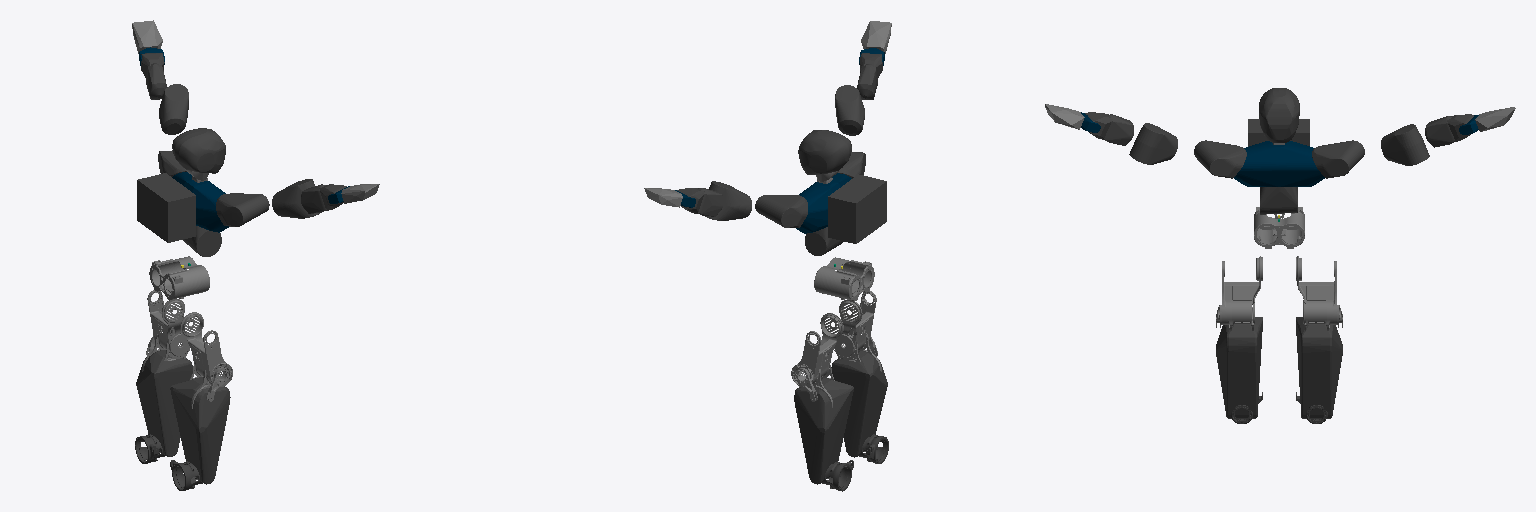
--- Render facts (derived) ---
Views: 3 orthographic renders of the robot side by side, from view 1: azimuth 30°, elevation 25°; view 2: azimuth 150°, elevation 25°; view 3: azimuth 270°, elevation 25°.
Robot: bigman — 84 links, 83 joints (31 revolute, 1 continuous, 51 fixed); root link base_link; default pose: joints at zero except 2 at the middle of their limits (RShLat = -1.99, LShLat = 1.97).
Visible links, largest first — view 1: RLowLeg, LLowLeg, backpack, RThighLowLeg, LThighLowLeg, Waist, multisense/head, RShp, DWYTorso, LShy, RShy, DWS (+5 smaller); view 2: LLowLeg, RLowLeg, backpack, LThighLowLeg, RThighLowLeg, Waist, multisense/head, LShp, DWYTorso, RShy, LShy, RSoftHandLink (+6 smaller); view 3: LLowLeg, RLowLeg, DWYTorso, multisense/head, LThighLowLeg, RThighLowLeg, Waist, RShp, LShy, LShp, RShy, DWS (+5 smaller).
Link boxes in pixels (<box>): RLowLeg: <box>170,377,230,484</box>; LLowLeg: <box>136,350,192,456</box>; backpack: <box>137,173,195,242</box>; RThighLowLeg: <box>180,312,232,408</box>; LThighLowLeg: <box>142,290,189,371</box>; Waist: <box>149,256,209,300</box>; multisense/head: <box>172,128,225,173</box>; RShp: <box>216,193,269,226</box>; DWYTorso: <box>172,172,228,232</box>; LShy: <box>159,84,188,134</box>; RShy: <box>272,179,319,218</box>; DWS: <box>183,226,221,256</box>; LLowLeg: <box>794,378,853,484</box>; RLowLeg: <box>831,351,887,457</box>; backpack: <box>828,174,886,243</box>; LThighLowLeg: <box>791,313,843,407</box>; RThighLowLeg: <box>834,291,881,371</box>; Waist: <box>814,257,874,301</box>; multisense/head: <box>798,130,851,174</box>; LShp: <box>755,195,807,227</box>; DWYTorso: <box>796,173,851,233</box>; RShy: <box>835,85,864,135</box>; LShy: <box>705,181,751,220</box>; RSoftHandLink: <box>861,21,891,53</box>; LLowLeg: <box>1296,317,1342,418</box>; RLowLeg: <box>1216,317,1262,418</box>; DWYTorso: <box>1234,141,1324,186</box>; multisense/head: <box>1259,88,1299,142</box>; LThighLowLeg: <box>1296,256,1342,330</box>; RThighLowLeg: <box>1216,256,1262,330</box>; Waist: <box>1254,207,1304,248</box>; RShp: <box>1194,140,1246,178</box>; LShy: <box>1381,124,1429,165</box>; LShp: <box>1312,140,1364,178</box>; RShy: <box>1129,123,1177,164</box>; DWS: <box>1260,187,1297,214</box>.
Bounding box of the posed robot: 0.6454 × 2.28 × 1.88 m (x, y, z).
Meshes: 22 distinct files referenced, 24 mesh visuals loaded (15 binary STL); not drawn: 3 (reference not matched to a file when rendering), 9 (file found but could not be loaded).

URDF robot description (bigman):
<?xml version="1.0" ?>
<!-- =================================================================================== -->
<!-- |    This document was autogenerated by xacro from bigman_robot.urdf.xacro        | -->
<!-- |    EDITING THIS FILE BY HAND IS NOT RECOMMENDED                                 | -->
<!-- =================================================================================== -->
<!--robot xmlns:xacro="http://ros.org/wiki/xacro" name="bigman"-->
<robot name="bigman" xmlns:xacro="http://ros.org/wiki/xacro">
  <!--
  ROS urdf definition of the BIGMAN humanoid robot by Istituto Italiano di Tecnologia
  
  Author: Enrico Mingo
  
  This file groups files to use BIGMAN in GAZEBO
  
  -->
  <!-- Uncomment this to have the robot rigidly connected to the world -->
  <!--  <link name="world"/>
  
   <joint name="fixed" type="fixed">
    <parent link="world"/>
    <child link="base_link"/>
  </joint>
  
  <origin xyz="0.0 0.0 1.5" rpy="0 0 0" /> -->
  <!-- ROBOT -->
  <!-- 
  ROS urdf definition of the BIGMAN humanoid robot by Istituto Italiano di Tecnologia
  
  DO NOT INCLUDE THIS FILE DIRECTLY! USE bigman_robot.urdf.xacro INSTEAD!

  Author: Enrico Mingo & Alessio Rocchi

  Inertial matrix has to be in CoM frame (URDF specs)

  Velocity and effort limits are fake!
-->
  <material name="grey">
    <color rgba="0.5 0.5 0.5 1"/>
  </material>
  <material name="dark_grey">
    <color rgba="0.3 0.3 0.3 1"/>
  </material>
  <material name="blue">
    <color rgba="0.0 0.2 0.3 1"/>
  </material>
  <!-- 
  ROS urdf definition of the BIGMAN humanoid robot by Istituto Italiano di Tecnologia
  
  DO NOT INCLUDE THIS FILE DIRECTLY! USE bigman_robot.urdf.xacro INSTEAD!

  Author: Enrico Mingo & Alessio Rocchi

  Inertial matrix has to be in CoM frame (URDF specs)

  Velocity and effort limits are fake!
-->
  <!--
The coordinate frame called base_link is rigidly attached to the robot root body. It is recommended to choose the robot waist as its root body. The base_link can be attached to the root in any arbitrary position or orientation; for every hardware platform there will be a different place on the base that provides an obvious point of reference. Note that REP 103 [1] specifies a preferred orientation for frames. -->
  <link name="base_link"/>
  <link name="Waist">
    <inertial>
      <origin rpy="0.0 0.0 0.0" xyz="-0.022813402 -0.00073935443 0.030422909"/>
      <mass value="1.1046081e+01"/>
      <inertia ixx="0.096207978" ixy="0.00014081043" ixz="0.0031258127" iyy="0.098511158" iyz="0.00013938149" izz="0.086541531"/>
    </inertial>
    <visual>
      <origin rpy="0 0 0" xyz="0 0 0"/>
      <geometry name="Waist_visual">
        <mesh filename="package://bigman_urdf/meshes/Waist.STL" scale="0.001 0.001 0.001"/>
      </geometry>
      <material name="grey"/>
    </visual>
    <collision>
      <origin rpy="0 0 0" xyz="0 0 0"/>
      <geometry name="Waist_collision">
        <mesh filename="package://bigman_urdf/meshes/simple/Waist.STL" scale="0.001 0.001 0.001"/>
      </geometry>
    </collision>
  </link>
  <joint name="base_joint" type="fixed">
    <parent link="base_link"/>
    <child link="Waist"/>
    <origin rpy="0 0 0" xyz="0 0 0"/>
  </joint>
  <!-- Scale factor for meshes -->
  <!-- LINKS -->
  <!-- This links are defined in order to be compliant with http://www.ros.org/reps/rep-0120.html#coordinate-frames
and to define the end effectors of the robot-->
  <!-- The coordinate frame called torso is attached to the lowest body of the model which is a parent of l_gripper, r_gripper and gaze. -->
  <link name="torso"/>
  <link name="DWL">
    <inertial>
      <origin rpy="0 0 0" xyz="-0.04610869 0.02232230 -0.02249514"/>
      <mass value="1.44965471"/>
      <inertia ixx="0.01096760" ixy="0.00111556" ixz="0.00030030" iyy="0.00409572" iyz="0.00054456" izz="0.01143795"/>
    </inertial>
    <visual>
      <origin rpy="0 0 0" xyz="0.0 0.0 0.0"/>
      <geometry name="DWL_visual">
        <mesh filename="package://bigman_urdf/meshes/TorsoRoll.STL" scale="0.001 0.001 0.001"/>
      </geometry>
      <material name="dark_grey"/>
    </visual>
    <collision>
      <origin rpy="0 0 0" xyz="0.0 0.0 0.0"/>
      <geometry name="DWL_collision">
        <mesh filename="package://bigman_urdf/meshes/simple/TorsoRoll.STL" scale="0.001 0.001 0.001"/>
      </geometry>
    </collision>
  </link>
  <link name="DWS">
    <inertial>
      <origin rpy="0 0 0" xyz="0.00010203 0.00928164 0.08113610"/>
      <mass value="5.28825567"/>
      <inertia ixx="0.01628069" ixy="-0.00000323" ixz="0.00001424" iyy="0.01424286" iyz="0.00075458" izz="0.00994169"/>
    </inertial>
    <visual>
      <origin rpy="0 0 0" xyz="0.0 0.0 0.0"/>
      <geometry name="DWS_visual">
        <mesh filename="package://bigman_urdf/meshes/TorsoYawPitch.STL" scale="0.001 0.001 0.001"/>
      </geometry>
      <material name="dark_grey"/>
    </visual>
    <collision>
      <origin rpy="0 0 0" xyz="0.0 0.0 0.0"/>
      <geometry name="DWS_collision">
        <mesh filename="package://bigman_urdf/meshes/simple/TorsoYawPitch.STL" scale="0.001 0.001 0.001"/>
      </geometry>
    </collision>
  </link>
  <link name="DWYTorso">
    <inertial>
      <origin rpy="0 0 0" xyz="0.0 0.00 0.3"/>
      <mass value="26"/>
      <inertia ixx="0.18629757" ixy="0.00008160" ixz="0.00030250" iyy="0.02013829" iyz="-0.00001790" izz="0.18850541"/>
    </inertial>
    <visual>
      <origin rpy="0 0 0" xyz="0.0 0.0 0.0"/>
      <geometry name="DWYTorso_visual">
        <mesh filename="package://bigman_urdf/meshes/NewChest.STL" scale="0.001 0.001 0.001"/>
      </geometry>
      <material name="blue"/>
    </visual>
    <collision>
      <origin rpy="0 0 0" xyz="0.0 0.0 0.0"/>
      <geometry name="DWYTorso_collision">
        <mesh filename="package://bigman_urdf/meshes/simple/NewChest.STL" scale="0.001 0.001 0.001"/>
      </geometry>
    </collision>
  </link>
  <link name="backpack">
    <inertial>
      <origin rpy="0 0 0" xyz="0 0 -0.065"/>
      <mass value="10.0"/>
      <inertia ixx="0.0890833333333" ixy="0.0" ixz="0.0" iyy="0.0354166666667" iyz="0.0" izz="0.0963333333333"/>
    </inertial>
    <visual>
      <origin rpy="0 0 0" xyz="0.0 0.0 0.0"/>
      <geometry name="backpack_visual">
        <box size="0.16 0.3 0.22"/>
      </geometry>
      <material name="dark_grey"/>
    </visual>
    <collision>
      <origin rpy="0 0 0" xyz="0.0 0.0 0.0"/>
      <geometry name="backpack_collision">
        <box size="0.16 0.3 0.22"/>
      </geometry>
    </collision>
  </link>
  <joint name="backpack_joint" type="fixed">
    <parent link="DWYTorso"/>
    <child link="backpack"/>
    <origin rpy="0 0 0" xyz="-0.185 0 -0.025"/>
  </joint>
  <joint name="torso_joint" type="fixed">
    <parent link="DWYTorso"/>
    <child link="torso"/>
    <origin rpy="0 0 0" xyz="0.0 0 0.0"/>
  </joint>
  <joint name="WaistLat" type="revolute">
    <parent link="Waist"/>
    <child link="DWL"/>
    <origin rpy="0 0 0" xyz="0.1115 0 0.195982"/>
    <axis xyz="0.89879991307 0 0.43835911792"/>
    <limit effort="120" lower="-0.610865238198" upper="0.610865238198" velocity="6.283"/>
    <dynamics damping="3.0" friction="0"/>
  </joint>
  <joint name="WaistSag" type="revolute">
    <parent link="DWL"/>
    <child link="DWS"/>
    <origin rpy="0 0 0" xyz="0 0 0"/>
    <axis xyz="0 1 0"/>
    <limit effort="220" lower="-0.349065850399" upper="1.3962634016" velocity="6.283"/>
    <dynamics damping="3.0" friction="0"/>
  </joint>
  <joint name="WaistYaw" type="revolute">
    <parent link="DWS"/>
    <child link="DWYTorso"/>
    <origin rpy="0 0 0" xyz="0 0 0.22275"/>
    <axis xyz="0 0 1"/>
    <limit effort="120" lower="-2.84488668075" upper="2.84488668075" velocity="6.283"/>
    <dynamics damping="3.0" friction="0"/>
  </joint>
  <!-- LINKS -->
  <link name="NeckYaw">
    <inertial>
      <origin rpy="0 0 0" xyz="0.0 0.0 0.1155"/>
      <mass value="0.35"/>
      <inertia ixx="0.00032840119" ixy="0.0" ixz="0.0" iyy="7.0371675e-05" iyz="0.0" izz="0.00032840111"/>
    </inertial>
    <visual>
      <origin rpy="0 0 0" xyz="0.0 0.0 0.0"/>
      <geometry name="NeckYaw_visual">
        <mesh filename="package://bigman_urdf/meshes/NeckYaw.STL" scale="0.001 0.001 0.001"/>
      </geometry>
      <material name="grey"/>
    </visual>
    <collision>
      <origin rpy="0 0 0" xyz="0.0 0.0 0.0"/>
      <geometry name="NeckYaw_collision">
        <mesh filename="package://bigman_urdf/meshes/simple/NeckYaw.STL" scale="0.001 0.001 0.001"/>
      </geometry>
    </collision>
  </link>
  <link name="NeckPitch">
    <inertial>
      <origin rpy="0 0 0" xyz="-0.102 0.0 0.26575"/>
      <mass value="0.623"/>
      <inertia ixx="0.0010388333" ixy="0.0" ixz="0.0" iyy="0.00054689381" iyz="0.0" izz="0.00054689381"/>
    </inertial>
    <visual>
      <origin rpy="0 0 0" xyz="0.0 0.0 0.0"/>
      <geometry name="NeckPitch_visual">
        <mesh filename="package://bigman_urdf/meshes/NeckPitch.STL" scale="0.001 0.001 0.001"/>
      </geometry>
      <material name="grey"/>
    </visual>
    <collision>
      <origin rpy="0 0 0" xyz="0.0 0.0 0.0"/>
      <geometry name="NeckPitch_collision">
        <mesh filename="package://bigman_urdf/meshes/simple/NeckPitch.STL" scale="0.001 0.001 0.001"/>
      </geometry>
    </collision>
  </link>
  <!-- JOINTS -->
  <joint name="NeckYawj" type="revolute">
    <parent link="DWYTorso"/>
    <child link="NeckYaw"/>
    <origin rpy="0 0 0" xyz="0 0 0"/>
    <axis xyz="0 0 1"/>
    <!--     <limit velocity="6.283" effort="120" lower="${(-175.0)*toRad}" upper="${(175.0)*toRad}" /> -->
    <limit effort="120" lower="-0.610865238198" upper="0.610865238198" velocity="6.283"/>
    <dynamics damping="3.0" friction="0"/>
  </joint>
  <joint name="NeckPitchj" type="revolute">
    <parent link="NeckYaw"/>
    <child link="NeckPitch"/>
    <origin rpy="0 0 0" xyz="0 0 0.117"/>
    <axis xyz="0 1 0"/>
    <!--limit velocity="6.283" effort="120" lower="${(-30.0)*toRad}" upper="${(70.0)*toRad}" /-->
    <limit effort="120" lower="-0.261799387799" upper="1.0471975512" velocity="6.283"/>
    <dynamics damping="3.0" friction="0"/>
  </joint>
  <!-- ********************LEGS******************** -->
  <!-- This links are defined in order to be compliant with http://www.ros.org/reps/rep-0120.html#coordinate-frames
	and to define the end effectors of the robot -->
  <!--  position and orientation of the leg regardless of the support body geometry -->
  <link name="l_ankle"/>
  <link name="r_ankle"/>
  <!-- position and orientation of the left leg support body. The (X,Y) plane of this frame must be coplanar with the support body contact surface. It is recommended to choose the origin as the projection of the support body origin on the contact surface. The Z coordinate of this frame should be on the ground level when standing. -->
  <link name="l_sole"/>
  <link name="r_sole"/>
  <!--  position and orientation of the leg toe body. The (X,Y) plan of this frame must be coplanar with the toe body contact surface. It is recommended to choose the origin as the projection of the body center on the contact surface. -->
  <link name="l_toe"/>
  <link name="r_toe"/>
  <!-- LINKS -->
  <!-- ********************RIGHT LEG******************** -->
  <link name="RHipMot">
    <inertial>
      <origin rpy="0 0 0" xyz="-0.10348188 -0.10919813 -0.064924056"/>
      <mass value="3.7958197"/>
      <inertia ixx="0.015639017" ixy="0.0018504661" ixz="0.0023907793" iyy="0.023519749" iyz="-0.0023303162" izz="0.020953643"/>
    </inertial>
    <visual>
      <origin rpy="0 0 0" xyz="0 0 0"/>
      <geometry name="RHipMot_visual">
        <mesh filename="package://bigman_urdf/meshes/HipRoll.STL" scale="0.001 0.001 0.001"/>
      </geometry>
      <material name="dark_grey"/>
    </visual>
    <collision>
      <origin rpy="0 0 0" xyz="0 0 0"/>
      <geometry name="RHipMot_collision">
        <mesh filename="package://bigman_urdf/meshes/simple/HipRoll.STL" scale="0.001 0.001 0.001"/>
      </geometry>
    </collision>
  </link>
  <link name="RThighUpLeg">
    <inertial>
      <origin rpy="0 0 0" xyz="-0.0052929709 -0.022561833 0.0056701669"/>
      <mass value="3.2402068"/>
      <inertia ixx="0.010102097" ixy="0.00010858487" ixz="0.00025291395" iyy="0.0067147" iyz="8.3447072e-05" izz="0.01048513"/>
    </inertial>
    <visual>
      <origin rpy="0 0 0" xyz="0 0 0"/>
      <geometry name="RThighUpLeg_visual">
        <mesh filename="package://bigman_urdf/meshes/HipYaw.STL" scale="0.001 0.001 0.001"/>
      </geometry>
      <material name="dark_grey"/>
    </visual>
    <collision>
      <origin rpy="0 0 0" xyz="0 0 0"/>
      <geometry name="RThighUpLeg_collision">
        <mesh filename="package://bigman_urdf/meshes/simple/HipYaw.STL" scale="0.001 0.001 0.001"/>
      </geometry>
    </collision>
  </link>
  <link name="RThighLowLeg">
    <inertial>
      <origin rpy="0 0 0" xyz="0.037746286 -0.028539939 -0.19310133"/>
      <mass value="5.0950736"/>
      <inertia ixx="0.051607858" ixy="0.0022253472" ixz="0.002452979" iyy="0.044349153" iyz="-0.0041006942" izz="0.023374453"/>
    </inertial>
    <visual>
      <origin rpy="0 0 0" xyz="0 0 0"/>
      <geometry name="RThighLowLeg_visual">
        <mesh filename="package://bigman_urdf/meshes/HipPitch.STL" scale="0.001 0.001 0.001"/>
      </geometry>
      <material name="grey"/>
    </visual>
    <collision>
      <origin rpy="0 0 0" xyz="0 0 0"/>
      <geometry name="RThighLowLeg_collision">
        <mesh filename="package://bigman_urdf/meshes/simple/HipPitch.STL" scale="0.001 0.001 0.001"/>
      </geometry>
    </collision>
  </link>
  <link name="RLowLeg">
    <inertial>
      <origin rpy="0 0 0" xyz="-0.0050828668 0.0037732093 -0.072605017"/>
      <mass value="5.6495309"/>
      <inertia ixx="0.10535542" ixy="-0.00058199221" ixz="0.0016743598" iyy="0.097857796" iyz="-0.0033770181" izz="0.020854086"/>
    </inertial>
    <visual>
      <origin rpy="0 0 0" xyz="0 0 0"/>
      <geometry name="RLowLeg_visual">
        <mesh filename="package://bigman_urdf/meshes/KneePitchCalf.STL" scale="0.001 0.001 0.001"/>
      </geometry>
      <material name="dark_grey"/>
    </visual>
    <collision>
      <origin rpy="0 0 0" xyz="0 0 0"/>
      <geometry name="RLowLeg_collision">
        <mesh filename="package://bigman_urdf/meshes/simple/KneePitchCalf.STL" scale="0.001 0.001 0.001"/>
      </geometry>
    </collision>
  </link>
  <link name="RFootmot">
    <inertial>
      <origin rpy="0 0 0" xyz="-0.022024173 0.0025677238 0.00094588455"/>
      <mass value="3.2844159"/>
      <inertia ixx="0.0075550679" ixy="0.00067488292" ixz="5.8332889e-05" iyy="0.011241163" iyz="-0.00014552081" izz="0.013391865"/>
    </inertial>
    <visual>
      <origin rpy="0 0 0" xyz="0 0 0"/>
      <geometry name="RFootmot_visual">
        <mesh filename="package://bigman_urdf/meshes/AnklePitch.STL" scale="0.001 0.001 0.001"/>
      </geometry>
      <material name="dark_grey"/>
    </visual>
    <collision>
      <origin rpy="0 0 0" xyz="0 0 0"/>
      <geometry name="RFootmot_collision">
        <mesh filename="package://bigman_urdf/meshes/simple/AnklePitch.STL" scale="0.001 0.001 0.001"/>
      </geometry>
    </collision>
  </link>
  <link name="RFoot">
    <inertial>
      <origin rpy="0 0 0" xyz="-0.00653584 -0.00479384 -0.10180375"/>
      <mass value="3.42638110"/>
      <inertia ixx="0.01032886" ixy="-0.00016407" ixz="-0.00201294" iyy="0.02854025" iyz="0.00046315" izz="0.02799499"/>
    </inertial>
    <visual>
      <origin rpy="0 0 0" xyz="0 0 0"/>
      <geometry name="RFoot_visual">
        <mesh filename="package://bigman_urdf/meshes/NewFoot.STL" scale="0.001 0.001 0.001"/>
      </geometry>
      <material name="dark_grey"/>
    </visual>
    <collision>
      <origin rpy="0 0 0" xyz="0.005 -0.01 -0.1359"/>
      <geometry>
        <box size="0.32 0.16 0.015"/>
      </geometry>
    </collision>
  </link>
  <!-- ********************LEFT LEG******************** -->
  <link name="LHipMot">
    <inertial>
      <origin rpy="0 0 0" xyz="-0.10348188 0.10919813 -0.064924056"/>
      <mass value="3.7958197"/>
      <inertia ixx="0.015639017" ixy="-0.0018504661" ixz="0.0023907793" iyy="0.023519749" iyz="0.0023303162" izz="0.020953643"/>
    </inertial>
    <visual>
      <origin rpy="0 0 0" xyz="0 0 0"/>
      <geometry name="LHipMot_visual">
        <mesh filename="package://bigman_urdf/meshes/HipRoll.STL" scale="0.001 -0.001 0.001"/>
      </geometry>
      <material name="dark_grey"/>
    </visual>
    <collision>
      <origin rpy="0 0 0" xyz="0 0 0"/>
      <geometry name="LHipMot_collision">
        <mesh filename="package://bigman_urdf/meshes/simple/HipRoll.STL" scale="0.001 -0.001 0.001"/>
      </geometry>
    </collision>
  </link>
  <link name="LThighUpLeg">
    <inertial>
      <origin rpy="0 0 0" xyz="-0.0052929709 0.022561833 0.0056701669"/>
      <mass value="3.2402068"/>
      <inertia ixx="0.010102097" ixy="-0.00010858487" ixz="0.00025291395" iyy="0.0067147" iyz="-8.3447072e-05" izz="0.01048513"/>
    </inertial>
    <visual>
      <origin rpy="0 0 0" xyz="0 0 0"/>
      <geometry name="LThighUpLeg_visual">
        <mesh filename="package://bigman_urdf/meshes/HipYaw.STL" scale="0.001 -0.001 0.001"/>
      </geometry>
      <material name="dark_grey"/>
    </visual>
    <collision>
      <origin rpy="0 0 0" xyz="0 0 0"/>
      <geometry name="LThighUpLeg_collision">
        <mesh filename="package://bigman_urdf/meshes/simple/HipYaw.STL" scale="0.001 -0.001 0.001"/>
      </geometry>
    </collision>
  </link>
  <link name="LThighLowLeg">
    <inertial>
      <origin rpy="0 0 0" xyz="0.037746286 0.028539939 -0.19310133"/>
      <mass value="5.0950736"/>
      <inertia ixx="0.051607858" ixy="-0.0022253472" ixz="0.002452979" iyy="0.044349153" iyz="0.0041006942" izz="0.023374453"/>
    </inertial>
    <visual>
      <origin rpy="0 0 0" xyz="0 0 0"/>
      <geometry name="LThighLowLeg_visual">
        <mesh filename="package://bigman_urdf/meshes/HipPitch.STL" scale="0.001 -0.001 0.001"/>
      </geometry>
      <material name="grey"/>
    </visual>
    <collision>
      <origin rpy="0 0 0" xyz="0 0 0"/>
      <geometry name="LThighLowLeg_collision">
        <mesh filename="package://bigman_urdf/meshes/simple/HipPitch.STL" scale="0.001 -0.001 0.001"/>
      </geometry>
    </collision>
  </link>
  <link name="LLowLeg">
    <inertial>
      <origin rpy="0 0 0" xyz="-0.0050828668 -0.0037732093 -0.072605017"/>
      <mass value="5.6495309"/>
      <inertia ixx="0.10535542" ixy="0.00058199221" ixz="0.0016743598" iyy="0.097857796" iyz="0.0033770181" izz="0.020854086"/>
    </inertial>
    <visual>
      <origin rpy="0 0 0" xyz="0 0 0"/>
      <geometry name="LLowLeg_visual">
        <mesh filename="package://bigman_urdf/meshes/KneePitchCalf.STL" scale="0.001 -0.001 0.001"/>
      </geometry>
      <material name="dark_grey"/>
    </visual>
    <collision>
      <origin rpy="0 0 0" xyz="0 0 0"/>
      <geometry name="LLowLeg_collision">
        <mesh filename="package://bigman_urdf/meshes/simple/KneePitchCalf.STL" scale="0.001 -0.001 0.001"/>
      </geometry>
    </collision>
  </link>
  <link name="LFootmot">
    <inertial>
      <origin rpy="0 0 0" xyz="-0.022024173 -0.0025677238 0.00094588455"/>
      <mass value="3.2844159"/>
      <inertia ixx="0.0075550679" ixy="-0.00067488292" ixz="5.8332889e-05" iyy="0.011241163" iyz="0.00014552081" izz="0.013391865"/>
    </inertial>
    <visual>
      <origin rpy="0 0 0" xyz="0 0 0"/>
      <geometry name="LFootmot_visual">
        <mesh filename="package://bigman_urdf/meshes/AnklePitch.STL" scale="0.001 -0.001 0.001"/>
      </geometry>
      <material name="dark_grey"/>
    </visual>
    <collision>
      <origin rpy="0 0 0" xyz="0 0 0"/>
      <geometry name="LFootmot_collision">
        <mesh filename="package://bigman_urdf/meshes/simple/AnklePitch.STL" scale="0.001 -0.001 0.001"/>
      </geometry>
    </collision>
  </link>
  <link name="LFoot">
    <inertial>
      <origin rpy="0 0 0" xyz="-0.00653584 0.00479384 -0.10180375"/>
      <mass value="3.42638110"/>
      <inertia ixx="0.01032886" ixy="0.00016407" ixz="-0.00201294" iyy="0.02854025" iyz="-0.00046315" izz="0.02799499"/>
    </inertial>
    <visual>
      <origin rpy="0 0 0" xyz="0 0 0"/>
      <geometry name="LFoot_visual">
        <mesh filename="package://bigman_urdf/meshes/NewFoot.STL" scale="0.001 -0.001 0.001"/>
      </geometry>
      <material name="dark_grey"/>
    </visual>
    <collision>
      <origin rpy="0 0 0" xyz="0.005 0.01 -0.1359"/>
      <geometry>
        <box size="0.32 0.16 0.015"/>
      </geometry>
    </collision>
  </link>
  <!-- JOINTS -->
  <!-- ********************RIGHT LEG******************** -->
  <joint name="RHipLat" type="revolute">
    <parent link="Waist"/>
    <child link="RHipMot"/>
    <origin rpy="0 0 0" xyz="0.1059 -0.06 0.0"/>
    <axis xyz="1 0 0"/>
    <limit effort="400" lower="-0.87222" upper="0.697778" velocity="6.283"/>
    <dynamics damping="3.0" friction="0"/>
  </joint>
  <joint name="RHipYaw" type="revolute">
    <parent link="RHipMot"/>
    <child link="RThighUpLeg"/>
    <origin rpy="0 0 0" xyz="-0.0889 -0.121032 -0.217872"/>
    <axis xyz="0 0 1"/>
    <limit effort="140" lower="-1.57" upper="0.872222" velocity="6.283"/>
    <dynamics damping="3.0" friction="0"/>
  </joint>
  <joint name="RHipSag" type="revolute">
    <parent link="RThighUpLeg"/>
    <child link="RThighLowLeg"/>
    <origin rpy="0 0 0" xyz="0.0 0.0 0.0"/>
    <axis xyz="0 1 0"/>
    <limit effort="400" lower="-2.09333" upper="1.046667" velocity="6.283"/>
    <dynamics damping="3.0" friction="0"/>
  </joint>
  <joint name="RKneeSag" type="revolute">
    <parent link="RThighLowLeg"/>
    <child link="RLowLeg"/>
    <origin rpy="0 0 0" xyz="0.0 0.0 -0.356"/>
    <axis xyz="0 1 0"/>
    <limit effort="400" lower="0.0" upper="2.442222" velocity="6.283"/>
    <dynamics damping="3.0" friction="0"/>
  </joint>
  <joint name="RAnkSag" type="revolute">
    <parent link="RLowLeg"/>
    <child link="RFootmot"/>
    <origin rpy="0 0 0" xyz="0.0 0.0 -0.4"/>
    <axis xyz="0 1 0"/>
    <limit effort="330" lower="-1.39556" upper="0.697778" velocity="6.283"/>
    <dynamics damping="3.0" friction="0"/>
  </joint>
  <joint name="RAnkLat" type="revolute">
    <parent link="RFootmot"/>
    <child link="RFoot"/>
    <origin rpy="0 0 0" xyz="0.0 0.0 0.0"/>
    <axis xyz="1 0 0"/>
    <limit effort="210" lower="-0.785" upper="0.785" velocity="6.283"/>
    <dynamics damping="3.0" friction="0"/>
  </joint>
  <!-- ********************LEFT LEG******************** -->
  <joint name="LHipLat" type="revolute">
    <parent link="Waist"/>
    <child link="LHipMot"/>
    <origin rpy="0 0 0" xyz="0.1059 0.06 0.0"/>
    <axis xyz="1 0 0"/>
    <limit effort="400" lower="-0.697778" upper="0.87222" velocity="6.283"/>
    <dynamics damping="3.0" friction="0"/>
  </joint>
  <joint name="LHipYaw" type="revolute">
    <parent link="LHipMot"/>
    <child link="LThighUpLeg"/>
    <origin rpy="0 0 0" xyz="-0.0889 0.121032 -0.217872"/>
    <axis xyz="0 0 1"/>
    <limit effort="140" lower="-0.872222" upper="1.57" velocity="6.283"/>
    <dynamics damping="3.0" friction="0"/>
  </joint>
  <joint name="LHipSag" type="revolute">
    <parent link="LThighUpLeg"/>
    <child link="LThighLowLeg"/>
    <origin rpy="0 0 0" xyz="0.0 0.0 0.0"/>
    <axis xyz="0 1 0"/>
    <limit effort="400" lower="-2.09333" upper="1.046667" velocity="6.283"/>
    <dynamics damping="3.0" friction="0"/>
  </joint>
  <joint name="LKneeSag" type="revolute">
    <parent link="LThighLowLeg"/>
    <child link="LLowLeg"/>
    <origin rpy="0 0 0" xyz="0.0 0.0 -0.356"/>
    <axis xyz="0 1 0"/>
    <limit effort="400" lower="0.0" upper="2.442222" velocity="6.283"/>
    <dynamics damping="3.0" friction="0"/>
  </joint>
  <joint name="LAnkSag" type="revolute">
    <parent link="LLowLeg"/>
    <child link="LFootmot"/>
    <origin rpy="0 0 0" xyz="0.0 0.0 -0.4"/>
    <axis xyz="0 1 0"/>
    <limit effort="330" lower="-1.39556" upper="0.697778" velocity="6.283"/>
    <dynamics damping="3.0" friction="0"/>
  </joint>
  <joint name="LAnkLat" type="revolute">
    <parent link="LFootmot"/>
    <child link="LFoot"/>
    <origin rpy="0 0 0" xyz="0.0 0.0 0.0"/>
    <axis xyz="1 0 0"/>
    <limit effort="210" lower="-0.785" upper="0.785" velocity="6.283"/>
    <dynamics damping="3.0" friction="0"/>
  </joint>
  <joint name="l_ankle_joint" type="fixed">
    <parent link="LFoot"/>
    <child link="l_ankle"/>
    <origin rpy="0 0 0" xyz="0 0 0"/>
  </joint>
  <joint name="r_ankle_joint" type="fixed">
    <parent link="RFoot"/>
    <child link="r_ankle"/>
    <origin rpy="0 0 0" xyz="0 0 0"/>
  </joint>
  <joint name="l_sole_joint" type="fixed">
    <parent link="LFoot"/>
    <child link="l_sole"/>
    <origin rpy="0 0 0" xyz="0 0 -0.1435"/>
  </joint>
  <joint name="r_sole_joint" type="fixed">
    <parent link="RFoot"/>
    <child link="r_sole"/>
    <origin rpy="0 0 0" xyz="0 0 -0.1435"/>
  </joint>
  <joint name="l_toe_joint" type="fixed">
    <parent link="l_sole"/>
    <child link="l_toe"/>
    <origin rpy="0 0 0" xyz="0.16 0 0"/>
  </joint>
  <joint name="r_toe_joint" type="fixed">
    <parent link="r_sole"/>
    <child link="r_toe"/>
    <origin rpy="0 0 0" xyz="0.16 0 0"/>
  </joint>
  <!-- macro for one reference frame in foot -->
  <link name="l_foot_upper_right_link"/>
  <joint name="l_foot_upper_right_joint" type="fixed">
    <origin rpy="0 0 0" xyz="0.16 -0.07 0"/>
    <parent link="l_sole"/>
    <child link="l_foot_upper_right_link"/>
  </joint>
  <!-- macro for one reference frame in foot -->
  <link name="l_foot_upper_left_link"/>
  <joint name="l_foot_upper_left_joint" type="fixed">
    <origin rpy="0 0 0" xyz="0.16 0.09 0"/>
    <parent link="l_sole"/>
    <child link="l_foot_upper_left_link"/>
  </joint>
  <!-- macro for one reference frame in foot -->
  <link name="l_foot_lower_right_link"/>
  <joint name="l_foot_lower_right_joint" type="fixed">
    <origin rpy="0 0 0" xyz="-0.16 -0.07 0"/>
    <parent link="l_sole"/>
    <child link="l_foot_lower_right_link"/>
  </joint>
  <!-- macro for one reference frame in foot -->
  <link name="l_foot_lower_left_link"/>
  <joint name="l_foot_lower_left_joint" type="fixed">
    <origin rpy="0 0 0" xyz="-0.16 0.09 0"/>
    <parent link="l_sole"/>
    <child link="l_foot_lower_left_link"/>
  </joint>
  <!-- macro for one reference frame in foot -->
  <link name="r_foot_upper_right_link"/>
  <joint name="r_foot_upper_right_joint" type="fixed">
    <origin rpy="0 0 0" xyz="0.16 0.07 0"/>
    <parent link="r_sole"/>
    <child link="r_foot_upper_right_link"/>
  </joint>
  <!-- macro for one reference frame in foot -->
  <link name="r_foot_upper_left_link"/>
  <joint name="r_foot_upper_left_joint" type="fixed">
    <origin rpy="0 0 0" xyz="0.16 -0.09 0"/>
    <parent link="r_sole"/>
    <child link="r_foot_upper_left_link"/>
  </joint>
  <!-- macro for one reference frame in foot -->
  <link name="r_foot_lower_right_link"/>
  <joint name="r_foot_lower_right_joint" type="fixed">
    <origin rpy="0 0 0" xyz="-0.16 0.07 0"/>
    <parent link="r_sole"/>
    <child link="r_foot_lower_right_link"/>
  </joint>
  <!-- macro for one reference frame in foot -->
  <link name="r_foot_lower_left_link"/>
  <joint name="r_foot_lower_left_joint" type="fixed">
    <origin rpy="0 0 0" xyz="-0.16 -0.09 0"/>
    <parent link="r_sole"/>
    <child link="r_foot_lower_left_link"/>
  </joint>
  <!-- LINKS -->
  <!-- RIGHT ARM -->
  <link name="RShp">
    <inertial>
      <origin rpy="0 0 0" xyz="-0.00543349 -0.04480023 0.01581062"/>
      <mass value="1.81745527"/>
      <inertia ixx="0.00571053" ixy="0.00041083" ixz="-0.00005130" iyy="0.01126908" iyz="-0.00003461" izz="0.01371197"/>
    </inertial>
    <visual>
      <origin rpy="0 0 0" xyz="0 0 0"/>
      <geometry name="RShp_visual">
        <mesh filename="package://bigman_urdf/meshes/ShoulderPitch.STL" scale="0.001 0.001 0.001"/>
      </geometry>
      <material name="dark_grey"/>
    </visual>
    <collision>
      <origin rpy="0 0 0" xyz="0 0 0"/>
      <geometry name="RShp_collision">
        <mesh filename="package://bigman_urdf/meshes/simple/ShoulderPitch.STL" scale="0.001 0.001 0.001"/>
      </geometry>
    </collision>
  </link>
  <link name="RShr">
    <inertial>
      <origin rpy="0 0 0" xyz="0.00729315 0.00002698 -0.07529696"/>
      <mass value="5.00486460"/>
      <inertia ixx="0.01644345" ixy="-0.00001187" ixz="-0.00010546" iyy="0.01804804" iyz="-0.00000565" izz="0.00802420"/>
    </inertial>
    <visual>
      <origin rpy="0 0 0" xyz="0 0 0"/>
      <geometry name="RShr_visual">
        <mesh filename="package://bigman_urdf/meshes/TopUpperArm.STL" scale="0.001 0.001 0.001"/>
      </geometry>
      <material name="dark_grey"/>
    </visual>
    <collision>
      <origin rpy="0 0 0" xyz="0 0 0"/>
      <geometry name="RShr_collision">
        <mesh filename="package://bigman_urdf/meshes/simple/TopUpperArm.STL" scale="0.001 0.001 0.001"/>
      </geometry>
    </collision>
  </link>
  <link name="RShy">
    <inertial>
      <origin rpy="0 0 0" xyz="0.02765373 -0.03258647 -0.12698781"/>
      <mass value="3.20289133"/>
      <inertia ixx="0.01129046" ixy="0.00013518" ixz="-0.00134760" iyy="0.00984951" iyz="-0.00026836" izz="0.00728549"/>
    </inertial>
    <visual>
      <origin rpy="0 0 0" xyz="0 0 0"/>
      <geometry name="RShy_visual">
        <mesh filename="package://bigman_urdf/meshes/BottomUpperArm.STL" scale="0.001 0.001 0.001"/>
      </geometry>
      <material name="dark_grey"/>
    </visual>
    <collision>
      <origin rpy="0 0 0" xyz="0 0 0"/>
      <geometry name="RShy_collision">
        <mesh filename="package://bigman_urdf/meshes/simple/BottomUpperArm.STL" scale="0.001 0.001 0.001"/>
      </geometry>
    </collision>
  </link>
  <link name="RElb">
    <inertial>
      <origin rpy="0 0 0" xyz="-0.055754915 -0.007582604 -0.043820396"/>
      <mass value="8.6765385e-01"/>
      <inertia ixx="0.0040395238" ixy="0.00034973136" ixz="-0.00068400465" iyy="0.0022460561" iyz="0.00028844444" izz="0.0044895027"/>
    </inertial>
    <visual>
      <origin rpy="0 0 0" xyz="0 0 0"/>
      <geometry name="RElb_visual">
        <mesh filename="package://bigman_urdf/meshes/Elbow.STL" scale="0.001 0.001 0.001"/>
      </geometry>
      <material name="dark_grey"/>
    </visual>
    <collision>
      <origin rpy="0 0 0" xyz="0 0 0"/>
      <geometry name="RElb_collision">
        <mesh filename="package://bigman_urdf/meshes/simple/Elbow.STL" scale="0.001 0.001 0.001"/>
      </geometry>
    </collision>
  </link>
  <!-- LEFT ARM -->
  <link name="LShp">
    <inertial>
      <origin rpy="0 0 0" xyz="-0.00543349 0.04480023 0.01581062"/>
      <mass value="1.81745527"/>
      <inertia ixx="0.00571053" ixy="-0.00041083" ixz="-0.00005130" iyy="0.01126908" iyz="0.00003461" izz="0.01371197"/>
    </inertial>
    <visual>
      <origin rpy="0 0 0" xyz="0 0 0"/>
      <geometry name="LShp_visual">
        <mesh filename="package://bigman_urdf/meshes/ShoulderPitch.STL" scale="0.001 -0.001 0.001"/>
      </geometry>
      <material name="dark_grey"/>
    </visual>
    <collision>
      <origin rpy="0 0 0" xyz="0 0 0"/>
      <geometry name="LShp_collision">
        <mesh filename="package://bigman_urdf/meshes/simple/ShoulderPitch.STL" scale="0.001 -0.001 0.001"/>
      </geometry>
    </collision>
  </link>
  <link name="LShr">
    <inertial>
      <origin rpy="0 0 0" xyz="0.00729315 -0.00002698 -0.07529696"/>
      <mass value="5.00486460"/>
      <inertia ixx="0.01644345" ixy="0.00001187" ixz="-0.00010546" iyy="0.01804804" iyz="0.00000565" izz="0.00802420"/>
    </inertial>
    <visual>
      <origin rpy="0 0 0" xyz="0 0 0"/>
      <geometry name="LShr_visual">
        <mesh filename="package://bigman_urdf/meshes/TopUpperArm.STL" scale="0.001 -0.001 0.001"/>
      </geometry>
      <material name="dark_grey"/>
    </visual>
    <collision>
      <origin rpy="0 0 0" xyz="0 0 0"/>
      <geometry name="LShr_collision">
        <mesh filename="package://bigman_urdf/meshes/simple/TopUpperArm.STL" scale="0.001 -0.001 0.001"/>
      </geometry>
    </collision>
  </link>
  <link name="LShy">
    <inertial>
      <origin rpy="0 0 0" xyz="0.02765373 0.03258647 -0.12698781"/>
      <mass value="3.20289133"/>
      <inertia ixx="0.01129046" ixy="-0.00013518" ixz="-0.00134760" iyy="0.00984951" iyz="0.00026836" izz="0.00728549"/>
    </inertial>
    <visual>
      <origin rpy="0 0 0" xyz="0 0 0"/>
      <geometry name="LShy_visual">
        <mesh filename="package://bigman_urdf/meshes/BottomUpperArm.STL" scale="0.001 -0.001 0.001"/>
      </geometry>
      <material name="dark_grey"/>
    </visual>
    <collision>
      <origin rpy="0 0 0" xyz="0 0 0"/>
      <geometry name="LShy_collision">
        <mesh filename="package://bigman_urdf/meshes/simple/BottomUpperArm.STL" scale="0.001 -0.001 0.001"/>
      </geometry>
    </collision>
  </link>
  <link name="LElb">
    <inertial>
      <origin rpy="0 0 0" xyz="-0.055754915 0.007582604 -0.043820396"/>
      <mass value="8.6765385e-01"/>
      <inertia ixx="0.0040395238" ixy="-0.00034973136" ixz="-0.00068400465" iyy="0.0022460561" iyz="-0.00028844444" izz="0.0044895027"/>
    </inertial>
    <visual>
      <origin rpy="0 0 0" xyz="0 0 0"/>
      <geometry name="LElb_visual">
        <mesh filename="package://bigman_urdf/meshes/Elbow.STL" scale="0.001 -0.001 0.001"/>
      </geometry>
      <material name="dark_grey"/>
    </visual>
    <collision>
      <origin rpy="0 0 0" xyz="0 0 0"/>
      <geometry name="LElb_collision">
        <mesh filename="package://bigman_urdf/meshes/simple/Elbow.STL" scale="0.001 -0.001 0.001"/>
      </geometry>
    </collision>
  </link>
  <!-- JOINTS -->
  <!-- RIGHT ARM -->
  <joint name="RShSag" type="revolute">
    <parent link="DWYTorso"/>
    <child link="RShp"/>
    <origin rpy="0 0 0.3491" xyz="0.045646 -0.219164 0.001531"/>
    <axis xyz="0 0.743144825 -0.669130606"/>
    <limit effort="120" lower="-2.84488668075" upper="2.80998009571" velocity="6.283"/>
    <dynamics damping="3.0" friction="0"/>
  </joint>
  <joint name="RShLat" type="revolute">
    <parent link="RShp"/>
    <child link="RShr"/>
    <origin rpy="0 0 0" xyz="0.0 -0.116568264 0.03364"/>
    <axis xyz="1 0 0"/>
    <limit effort="120" lower="-3.85717764691" upper="-0.12217304764" velocity="6.283"/>
    <dynamics damping="3.0" friction="0"/>
  </joint>
  <joint name="RShYaw" type="revolute">
    <parent link="RShr"/>
    <child link="RShy"/>
    <origin rpy="0 0 0" xyz="0.0 0.0 -0.222"/>
    <axis xyz="0 0 1"/>
    <limit effort="120" lower="-2.86233997327" upper="2.82743338823" velocity="6.283"/>
    <dynamics damping="3.0" friction="0"/>
  </joint>
  <joint name="RElbj" type="revolute">
    <parent link="RShy"/>
    <child link="RElb"/>
    <origin rpy="0 0 0" xyz="0.036 0.0 -0.15"/>
    <axis xyz="0 1 0"/>
    <limit effort="120" lower="-2.96705972839" upper="0.593411945678" velocity="6.283"/>
    <dynamics damping="3.0" friction="0"/>
  </joint>
  <!-- LEFT ARM -->
  <joint name="LShSag" type="revolute">
    <parent link="DWYTorso"/>
    <child link="LShp"/>
    <origin rpy="0 0 -0.3491" xyz="0.045646 0.219164 0.001531"/>
    <axis xyz="0.0 0.743144825 0.669130606"/>
    <limit effort="120" lower="-2.87979326579" upper="2.79252680319" velocity="6.283"/>
    <dynamics damping="3.0" friction="0"/>
  </joint>
  <joint name="LShLat" type="revolute">
    <parent link="LShp"/>
    <child link="LShr"/>
    <origin rpy="0 0 0" xyz="0.0 0.116568264 0.03364"/>
    <axis xyz="1 0 0"/>
    <limit effort="120" lower="0.0872664625997" upper="3.85717764691" velocity="6.283"/>
    <dynamics damping="3.0" friction="0"/>
  </joint>
  <joint name="LShYaw" type="revolute">
    <parent link="LShr"/>
    <child link="LShy"/>
    <origin rpy="0 0 0" xyz="0.0 0.0 -0.222"/>
    <axis xyz="0 0 1"/>
    <limit effort="120" lower="-2.84488668075" upper="2.84488668075" velocity="6.283"/>
    <dynamics damping="3.0" friction="0"/>
  </joint>
  <joint name="LElbj" type="revolute">
    <parent link="LShy"/>
    <child link="LElb"/>
    <origin rpy="0 0 0" xyz="0.036 0.0 -0.15"/>
    <axis xyz="0 1 0"/>
    <limit effort="120" lower="-2.96705972839" upper="0.593411945678" velocity="6.283"/>
    <dynamics damping="3.0" friction="0"/>
  </joint>
  <!-- ***** LEGS F/T SENSOR REF FRAMES *******-->
  <link name="l_leg_ft"/>
  <link name="r_leg_ft"/>
  <joint name="l_leg_ft_joint" type="fixed">
    <parent link="LFoot"/>
    <child link="l_leg_ft"/>
    <origin rpy="0 0 0" xyz="0.005 0 -0.107"/>
  </joint>
  <joint name="r_leg_ft_joint" type="fixed">
    <parent link="RFoot"/>
    <child link="r_leg_ft"/>
    <origin rpy="0 0 0" xyz="0.005 0 -0.107"/>
  </joint>
  <link name="l_arm_ft"/>
  <link name="r_arm_ft"/>
  <joint name="l_arm_ft_joint" type="fixed">
    <parent link="LWrMot3"/>
    <child link="l_arm_ft"/>
    <origin rpy="0 0 0" xyz="0 0 -0.0565"/>
  </joint>
  <joint name="r_arm_ft_joint" type="fixed">
    <parent link="RWrMot3"/>
    <child link="r_arm_ft"/>
    <origin rpy="0 0 0" xyz="0 0 -0.0565"/>
  </joint>
  <!-- ************ FOREARMS ************ -->
  <!-- This links are defined in order to be compliant with http://www.ros.org/reps/rep-0120.html#coordinate-frames
	and to define the end effectors of the robot -->
  <!-- position and orientation of the arm regardless of the tool (grasping device for instance) attached to it -->
  <link name="l_wrist"/>
  <link name="r_wrist"/>
  <!-- ****************LINKS**************** -->
  <!-- ****************LEFT FOREARM**************** -->
  <link name="LForearm">
    <inertial>
      <origin rpy="0 0 0" xyz="1.2625599e-05 0.0042975381 0.044717986"/>
      <mass value="2.2127686"/>
      <inertia ixx="0.0065428368" ixy="-4.1196967e-05" ixz="3.272727e-06" iyy="0.005587829" iyz="0.00042088668" izz="0.0024783023"/>
    </inertial>
    <visual>
      <origin rpy="0 0 0" xyz="0 0 0"/>
      <geometry name="LForearm_visual">
        <mesh filename="package://bigman_urdf/meshes/Forearm.STL" scale="0.001 -0.001 0.001"/>
      </geometry>
      <material name="dark_grey"/>
    </visual>
    <collision>
      <origin rpy="0 0 0" xyz="0 0 0"/>
      <geometry name="LForearm_collision">
        <mesh filename="package://bigman_urdf/meshes/simple/Forearm.STL" scale="0.001 -0.001 0.001"/>
      </geometry>
    </collision>
  </link>
  <link name="LWrMot2">
    <inertial>
      <origin rpy="0 0 0" xyz="0.009819377 0.0013797184 -0.080380065"/>
      <mass value="1.2838072"/>
      <inertia ixx="0.001994124" ixy="2.569706e-05" ixz="0.00017443538" iyy="0.0021755329" iyz="-0.00012100987" izz="0.001830376"/>
    </inertial>
    <visual>
      <origin rpy="0 0 0" xyz="0 0 0"/>
      <geometry name="LWrMot2_visual">
        <mesh filename="package://bigman_urdf/meshes/ForearmPitch.STL" scale="0.001 -0.001 0.001"/>
      </geometry>
      <material name="dark_grey"/>
    </visual>
    <collision>
      <origin rpy="0 0 0" xyz="0 0 0"/>
      <geometry name="LWrMot2_collision">
        <mesh filename="package://bigman_urdf/meshes/simple/ForearmPitch.STL" scale="0.001 -0.001 0.001"/>
      </geometry>
    </collision>
  </link>
  <link name="LWrMot3">
    <inertial>
      <origin rpy="0 0 0" xyz="0.0070380706 -1.0811188e-05 -0.039669274"/>
      <mass value="4.2801447e-01"/>
      <inertia ixx="0.00028620156" ixy="5.2570457e-08" ixz="-3.9174213e-05" iyy="0.00071261855" iyz="-9.5020266e-08" izz="0.00061444258"/>
    </inertial>
    <visual>
      <origin rpy="0 0 0" xyz="0 0 0"/>
      <geometry name="LWrMot3_visual">
        <mesh filename="package://bigman_urdf/meshes/ForearmRoll.STL" scale="0.001 -0.001 0.001"/>
      </geometry>
      <material name="blue"/>
    </visual>
    <collision>
      <origin rpy="0 0 0" xyz="0 0 0"/>
      <geometry name="LWrMot3_collision">
        <mesh filename="package://bigman_urdf/meshes/simple/ForearmRoll.STL" scale="0.001 -0.001 0.001"/>
      </geometry>
    </collision>
  </link>
  <!-- ****************RIGHT FOREARM**************** -->
  <link name="RForearm">
    <inertial>
      <origin rpy="0 0 0" xyz="1.2625599e-05 -0.0042975381 0.044717986"/>
      <mass value="2.2127686"/>
      <inertia ixx="0.0065428368" ixy="4.1196967e-05" ixz="3.272727e-06" iyy="0.005587829" iyz="-0.00042088668" izz="0.0024783023"/>
    </inertial>
    <visual>
      <origin rpy="0 0 0" xyz="0 0 0"/>
      <geometry name="RForearm_visual">
        <mesh filename="package://bigman_urdf/meshes/Forearm.STL" scale="0.001 0.001 0.001"/>
      </geometry>
      <material name="dark_grey"/>
    </visual>
    <collision>
      <origin rpy="0 0 0" xyz="0 0 0"/>
      <geometry name="RForearm_collision">
        <mesh filename="package://bigman_urdf/meshes/simple/Forearm.STL" scale="0.001 0.001 0.001"/>
      </geometry>
    </collision>
  </link>
  <link name="RWrMot2">
    <inertial>
      <origin rpy="0 0 0" xyz="0.009819377 -0.0013797184 -0.080380065"/>
      <mass value="1.2838072"/>
      <inertia ixx="0.001994124" ixy="-2.569706e-05" ixz="0.00017443538" iyy="0.0021755329" iyz="0.00012100987" izz="0.001830376"/>
    </inertial>
    <visual>
      <origin rpy="0 0 0" xyz="0 0 0"/>
      <geometry name="RWrMot2_visual">
        <mesh filename="package://bigman_urdf/meshes/ForearmPitch.STL" scale="0.001 0.001 0.001"/>
      </geometry>
      <material name="dark_grey"/>
    </visual>
    <collision>
      <origin rpy="0 0 0" xyz="0 0 0"/>
      <geometry name="RWrMot2_collision">
        <mesh filename="package://bigman_urdf/meshes/simple/ForearmPitch.STL" scale="0.001 0.001 0.001"/>
      </geometry>
    </collision>
  </link>
  <link name="RWrMot3">
    <inertial>
      <origin rpy="0 0 0" xyz="0.0070380706 1.0811188e-05 -0.039669274"/>
      <mass value="4.2801447e-01"/>
      <inertia ixx="0.00028620156" ixy="-5.2570457e-08" ixz="-3.9174213e-05" iyy="0.00071261855" iyz="9.5020266e-08" izz="0.00061444258"/>
    </inertial>
    <visual>
      <origin rpy="0 0 0" xyz="0 0 0"/>
      <geometry name="RWrMot3_visual">
        <mesh filename="package://bigman_urdf/meshes/ForearmRoll.STL" scale="0.001 0.001 0.001"/>
      </geometry>
      <material name="blue"/>
    </visual>
    <collision>
      <origin rpy="0 0 0" xyz="0 0 0"/>
      <geometry name="RWrMot3_collision">
        <mesh filename="package://bigman_urdf/meshes/simple/ForearmRoll.STL" scale="0.001 0.001 0.001"/>
      </geometry>
    </collision>
  </link>
  <!-- ****************JOINTS**************** -->
  <!-- ****************LEFT FOREARM**************** -->
  <joint name="LForearmPlate" type="revolute">
    <parent link="LElb"/>
    <child link="LForearm"/>
    <origin rpy="0 0 0" xyz="-0.075 0.0 -0.1955"/>
    <axis xyz="0 0 1"/>
    <limit effort="60" lower="-2.529" upper="2.529" velocity="6.283"/>
    <dynamics damping="0.03" friction="0"/>
  </joint>
  <joint name="LWrj1" type="revolute">
    <parent link="LForearm"/>
    <child link="LWrMot2"/>
    <origin rpy="0 0 0" xyz="0 0 0"/>
    <axis xyz="0 1 0"/>
    <limit effort="60" lower="-1.48" upper="1.48" velocity="6.283"/>
    <dynamics damping="0.03" friction="0"/>
  </joint>
  <joint name="LWrj2" type="revolute">
    <parent link="LWrMot2"/>
    <child link="LWrMot3"/>
    <origin rpy="0 0 0" xyz="0 0 -0.092"/>
    <axis xyz="1 0 0"/>
    <limit effort="60" lower="-1.48" upper="1.48" velocity="6.283"/>
    <dynamics damping="0.03" friction="0"/>
  </joint>
  <joint name="l_wrist_joint" type="fixed">
    <parent link="LWrMot3"/>
    <child link="l_wrist"/>
    <origin rpy="0 0 0" xyz="0 0 0"/>
  </joint>
  <!-- ****************RIGHT FOREARM**************** -->
  <joint name="RForearmPlate" type="revolute">
    <parent link="RElb"/>
    <child link="RForearm"/>
    <origin rpy="0 0 0" xyz="-0.075 0.0 -0.1955"/>
    <axis xyz="0 0 1"/>
    <limit effort="60" lower="-2.529" upper="2.529" velocity="6.283"/>
    <dynamics damping="0.03" friction="0"/>
  </joint>
  <joint name="RWrj1" type="revolute">
    <parent link="RForearm"/>
    <child link="RWrMot2"/>
    <origin rpy="0 0 0" xyz="0 0 0"/>
    <axis xyz="0 1 0"/>
    <limit effort="60" lower="-1.48" upper="1.48" velocity="6.283"/>
    <dynamics damping="0.03" friction="0"/>
  </joint>
  <joint name="RWrj2" type="revolute">
    <parent link="RWrMot2"/>
    <child link="RWrMot3"/>
    <origin rpy="0 0 0" xyz="0 0 -0.092"/>
    <axis xyz="1 0 0"/>
    <limit effort="60" lower="-1.48" upper="1.48" velocity="6.283"/>
    <dynamics damping="0.03" friction="0"/>
  </joint>
  <joint name="r_wrist_joint" type="fixed">
    <parent link="RWrMot3"/>
    <child link="r_wrist"/>
    <origin rpy="0 0 0" xyz="0 0 0"/>
  </joint>
  <!-- For the hand we use the inertia of a parallelepiped -->
  <!-- LINKS -->
  <link name="RSoftHand"/>
  <link name="TCP_R"/>
  <link name="RSoftHandLink">
    <inertial>
      <origin rpy="0 0 0" xyz="0 0 -0.17"/>
      <mass value="1.2"/>
      <inertia ixx="0.00232" ixy="0" ixz="0" iyy="0.00296" iyz="0" izz="0.00136"/>
    </inertial>
    <visual>
      <origin rpy="0.0 0.0 0.0" xyz="0.0 0.0 0.0"/>
      <geometry name="RSoftHandLink_visual">
        <mesh filename="package://bigman_urdf/meshes/SoftHandOpen.STL" scale="0.001 0.001 0.001"/>
      </geometry>
      <material name="grey"/>
    </visual>
    <collision>
      <origin rpy="0.0 0.0 0.0" xyz="0.0 0.0 0.0"/>
      <geometry name="RSoftHandLink_collision">
        <mesh filename="package://bigman_urdf/meshes/simple/SoftHandOpen.STL" scale="0.001 0.001 0.001"/>
      </geometry>
    </collision>
  </link>
  <link name="r_hand_upper_right_link"/>
  <link name="r_hand_lower_right_link"/>
  <link name="r_hand_upper_left_link"/>
  <link name="r_hand_lower_left_link"/>
  <link name="LSoftHand"/>
  <link name="TCP_L"/>
  <link name="LSoftHandLink">
    <inertial>
      <origin rpy="0 0 0" xyz="0 0 -0.17"/>
      <mass value="1.2"/>
      <inertia ixx="0.00232" ixy="0" ixz="0" iyy="0.00296" iyz="0" izz="0.00136"/>
    </inertial>
    <visual>
      <origin rpy="0.0 0.0 0.0" xyz="0.0 0.0 0.0"/>
      <geometry name="LSoftHandLink_visual">
        <mesh filename="package://bigman_urdf/meshes/SoftHandOpen.STL" scale="0.001 -0.001 0.001"/>
      </geometry>
      <material name="grey"/>
    </visual>
    <collision>
      <origin rpy="0.0 0.0 0.0" xyz="0.0 0.0 0.0"/>
      <geometry name="LSoftHandLink_collision">
        <mesh filename="package://bigman_urdf/meshes/simple/SoftHandOpen.STL" scale="0.001 -0.001 0.001"/>
      </geometry>
    </collision>
  </link>
  <link name="l_hand_upper_right_link"/>
  <link name="l_hand_lower_right_link"/>
  <link name="l_hand_upper_left_link"/>
  <link name="l_hand_lower_left_link"/>
  <!-- JOINTS -->
  <joint name="r_handj" type="fixed">
    <parent link="RWrMot3"/>
    <child link="RSoftHandLink"/>
    <origin rpy="0 0 0" xyz="0 0 0"/>
  </joint>
  <joint name="r_handj2" type="fixed">
    <parent link="RSoftHandLink"/>
    <child link="RSoftHand"/>
    <origin rpy="0 0 0" xyz="0 0.0305 -0.21"/>
  </joint>
  <joint name="r_handj3" type="fixed">
    <parent link="RSoftHand"/>
    <child link="r_hand_upper_right_link"/>
    <origin rpy="0 0 0" xyz="0.05 0.0 0.0"/>
  </joint>
  <joint name="r_handj4" type="fixed">
    <parent link="RSoftHand"/>
    <child link="r_hand_lower_right_link"/>
    <origin rpy="0 0 0" xyz="-0.05 0.0 0.0"/>
  </joint>
  <joint name="r_handj5" type="fixed">
    <parent link="RSoftHand"/>
    <child link="r_hand_upper_left_link"/>
    <origin rpy="0 0 0" xyz="0.05 0.0 0.1"/>
  </joint>
  <joint name="r_handj6" type="fixed">
    <parent link="RSoftHand"/>
    <child link="r_hand_lower_left_link"/>
    <origin rpy="0 0 0" xyz="-0.05 0.0 0.1"/>
  </joint>
  <joint name="l_handj" type="fixed">
    <parent link="LWrMot3"/>
    <child link="LSoftHandLink"/>
    <origin rpy="0 0 0" xyz="0 0 0"/>
  </joint>
  <joint name="l_handj2" type="fixed">
    <parent link="LSoftHandLink"/>
    <child link="LSoftHand"/>
    <origin rpy="0 0 0" xyz="0 -0.0305 -0.21"/>
  </joint>
  <joint name="l_handj3" type="fixed">
    <parent link="LSoftHand"/>
    <child link="l_hand_upper_right_link"/>
    <origin rpy="0 0 0" xyz="0.05 0.0 0.0"/>
  </joint>
  <joint name="l_handj4" type="fixed">
    <parent link="LSoftHand"/>
    <child link="l_hand_lower_right_link"/>
    <origin rpy="0 0 0" xyz="-0.05 0.0 0.0"/>
  </joint>
  <joint name="l_handj5" type="fixed">
    <parent link="LSoftHand"/>
    <child link="l_hand_upper_left_link"/>
    <origin rpy="0 0 0" xyz="0.05 0.0 0.1"/>
  </joint>
  <joint name="l_handj6" type="fixed">
    <parent link="LSoftHand"/>
    <child link="l_hand_lower_left_link"/>
    <origin rpy="0 0 0" xyz="-0.05 0.0 0.1"/>
  </joint>
  <joint name="TCP_Ljoint" type="fixed">
    <parent link="LSoftHand"/>
    <child link="TCP_L"/>
    <origin rpy="1.57079632679 3.14159265359 0" xyz="0.0 0.0 0.0"/>
  </joint>
  <joint name="TCP_Rjoint" type="fixed">
    <parent link="RSoftHand"/>
    <child link="TCP_R"/>
    <origin rpy="-1.57079632679 0 0" xyz="0.0 0.0 0.0"/>
  </joint>
  <joint name="neck_joint" type="fixed">
    <parent link="NeckPitch"/>
    <child link="multisense/head"/>
    <origin rpy="0 0 0" xyz="0.08765 0 0.06475"/>
  </joint>
  <!-- 
       Based on multisense_sl_v4.urdf in multisense_sl_description (DRCSIM) 
-->
  <!-- Head Link Simple Collision Meshes -->
  <link name="multisense/head">
    <inertial>
      <origin rpy="0 0 0" xyz="-0.075493 3.3383E-05 0.02774"/>
      <mass value="1.41984"/>
      <inertia ixx="0.0039688" ixy="-1.5797E-06" ixz="-0.00089293" iyy="0.0041178" iyz="-6.8415E-07" izz="0.0035243"/>
    </inertial>
    <visual>
      <origin rpy="0 0 0" xyz="0 0 0"/>
      <geometry>
        <mesh filename="package://bigman_urdf/meshes/Head.STL" scale="0.001 0.001 0.001"/>
      </geometry>
      <material name="dark_grey"/>
    </visual>
    <collision>
      <origin rpy="0 0 0" xyz="0 0 0"/>
      <geometry>
        <mesh filename="package://bigman_urdf/meshes/simple/Head.STL" scale="0.001 0.001 0.001"/>
      </geometry>
    </collision>
  </link>
  <link name="multisense/hokuyo_link">
    <inertial>
      <origin rpy="0 0 0" xyz="0.032428 0.0004084 -0.0041835"/>
      <mass value="0.057654"/>
      <inertia ixx="3.7174E-05" ixy="4.9927E-08" ixz="1.1015E-05" iyy="4.2412E-05" iyz="-9.8165E-09" izz="4.167E-05"/>
    </inertial>
    <visual>
      <origin rpy="1.5707963267949 0 1.5707963267949" xyz="0 0 0"/>
      <geometry>
        <mesh filename="package://bigman_urdf/meshes/hokuyo_link.STL"/>
      </geometry>
      <material name="black"/>
    </visual>
    <collision>
      <origin rpy="0 0 0" xyz="0.01885 0 -0.02119"/>
      <geometry>
        <box size="0.08 0.06 0.04238"/>
      </geometry>
    </collision>
    <collision>
      <origin rpy="0 0 0" xyz="0.03 0 0.0235"/>
      <geometry>
        <cylinder length="0.047" radius="0.024425"/>
      </geometry>
    </collision>
  </link>
  <!-- Remove frome here! -->
  <gazebo reference="multisense/head">
    <mu1>0.9</mu1>
    <mu2>0.9</mu2>
  </gazebo>
  <gazebo reference="multisense/hokuyo_link">
    <mu1>0.9</mu1>
    <mu2>0.9</mu2>
  </gazebo>
  <joint name="hokuyo_joint" type="continuous">
    <origin rpy="0 0 0" xyz="-0.0446 0 0.0880"/>
    <parent link="multisense/head"/>
    <child link="multisense/hokuyo_link"/>
    <axis xyz="1 0 0"/>
    <dynamics damping="0.01" friction="0"/>
  </joint>
  <!-- Remove frome here! -->
  <gazebo reference="hokuyo_joint">
    <implicitSpringDamper>1</implicitSpringDamper>
  </gazebo>
  <!-- Hokuyo Laser -->
  <joint name="head_hokuyo_joint" type="fixed">
    <axis xyz="0 1 0"/>
    <origin rpy="0 0 0" xyz="0.03 0 0.015"/>
    <parent link="multisense/hokuyo_link"/>
    <child link="multisense/head_hokuyo_frame"/>
  </joint>
  <link name="multisense/head_hokuyo_frame"/>
  <!-- Remove frome here! -->
  <gazebo reference="multisense/head_hokuyo_frame">
    <!-- sensor type="gpu_ray" name="head_hokuyo_sensor"-->
    <sensor name="head_hokuyo_sensor" type="ray">
      <pose>0 0 0 0 0 0</pose>
      <visualize>true</visualize>
      <update_rate>40</update_rate>
      <ray>
        <scan>
          <horizontal>
            <samples>720</samples>
            <resolution>1</resolution>
            <min_angle>-1.570796</min_angle>
            <max_angle>1.570796</max_angle>
          </horizontal>
        </scan>
        <range>
          <min>0.10</min>
          <max>30.0</max>
          <resolution>0.01</resolution>
        </range>
        <noise>
          <type>gaussian</type>
          <!-- Noise parameters based on published spec for Hokuyo laser
               achieving "+-30mm" accuracy at range < 10m.  A mean of 0.0m and
               stddev of 0.01m will put 99.7% of samples within 0.03m of the true
               reading. -->
          <mean>0.0</mean>
          <stddev>0.01</stddev>
        </noise>
      </ray>
      <!--plugin name="gazebo_ros_head_hokuyo_controller" filename="libgazebo_ros_gpu_laser.so"-->
      <plugin filename="libgazebo_ros_laser.so" name="gazebo_ros_head_hokuyo_controller">
        <topicName>/multisense/lidar_scan</topicName>
        <frameName>multisense/head_hokuyo_frame</frameName>
      </plugin>
    </sensor>
  </gazebo>
  <!-- Stereo Camera -->
  <joint name="left_camera_frame_joint" type="fixed">
    <!-- optical frame collocated with tilting DOF -->
    <origin xyz="0.0 0.035 -0.002"/>
    <parent link="multisense/head"/>
    <child link="multisense/left_camera_frame"/>
  </joint>
  <link name="multisense/left_camera_frame"/>
  <joint name="left_camera_optical_frame_joint" type="fixed">
    <origin rpy="-1.5708 0.0 -1.5708" xyz="0 0 0"/>
    <parent link="multisense/left_camera_frame"/>
    <child link="multisense/left_camera_optical_frame"/>
  </joint>
  <link name="multisense/left_camera_optical_frame"/>
  <gazebo reference="multisense/left_camera_frame">
    <sensor name="stereo_camera" type="multicamera">
      <!-- see MultiSenseSLPlugin.h for available modes -->
      <update_rate>30.0</update_rate>
      <camera name="left">
        <!-- Spec sheet says 80deg X 45deg @ 1024x544pix.  Based on feedback
             from teams, we're instead doing 80deg X 80deg @ 800x800pix. -->
        <horizontal_fov>1.3962634</horizontal_fov>
        <image>
          <width>800</width>
          <height>800</height>
          <format>R8G8B8</format>
        </image>
        <clip>
          <near>0.02</near>
          <far>300</far>
        </clip>
        <noise>
          <type>gaussian</type>
          <!-- Noise is sampled independently per pixel on each frame.  
               That pixel's noise value is added to each of its color
               channels, which at that point lie in the range [0,1].
               The stddev value of 0.007 is based on experimental data 
               from a camera in a Sandia hand pointed at a static scene
               in a couple of different lighting conditions.  -->
          <mean>0.0</mean>
          <stddev>0.007</stddev>
        </noise>
      </camera>
      <camera name="right">
        <pose>0 -0.07 0 0 0 0</pose>
        <!-- Spec sheet says 80deg X 45deg @ 1024x544pix.  Based on feedback
             from teams, we're instead doing 80deg X 80deg @ 800x800pix. -->
        <horizontal_fov>1.3962634</horizontal_fov>
        <image>
          <width>800</width>
          <height>800</height>
          <format>R8G8B8</format>
        </image>
        <clip>
          <near>0.02</near>
          <far>300</far>
        </clip>
        <noise>
          <type>gaussian</type>
          <!-- Noise is sampled independently per pixel on each frame.  
               That pixel's noise value is added to each of its color
               channels, which at that point lie in the range [0,1].
               The stddev value of 0.007 is based on experimental data 
               from a camera in a Sandia hand pointed at a static scene
               in a couple of different lighting conditions.  -->
          <mean>0.0</mean>
          <stddev>0.007</stddev>
        </noise>
      </camera>
      <plugin filename="libgazebo_ros_multicamera.so" name="stereo_camera_controller">
        <alwaysOn>true</alwaysOn>
        <updateRate>0.0</updateRate>
        <cameraName>multisense/camera</cameraName>
        <imageTopicName>image_raw</imageTopicName>
        <cameraInfoTopicName>camera_info</cameraInfoTopicName>
        <frameName>multisense/left_camera_optical_frame</frameName>
        <rightFrameName>multisense/right_camera_optical_frame</rightFrameName>
        <hackBaseline>0.07</hackBaseline>
        <distortionK1>0.0</distortionK1>
        <distortionK2>0.0</distortionK2>
        <distortionK3>0.0</distortionK3>
        <distortionT1>0.0</distortionT1>
        <distortionT2>0.0</distortionT2>
      </plugin>
    </sensor>
  </gazebo>
  <joint name="right_camera_frame_joint" type="fixed">
    <origin xyz="0.0 -0.035 -0.002"/>
    <parent link="multisense/head"/>
    <child link="multisense/right_camera_frame"/>
  </joint>
  <link name="multisense/right_camera_frame"/>
  <joint name="right_camera_optical_frame_joint" type="fixed">
    <origin rpy="-1.5708 0.0 -1.5708" xyz="0 0 0"/>
    <parent link="multisense/right_camera_frame"/>
    <child link="multisense/right_camera_optical_frame"/>
  </joint>
  <link name="multisense/right_camera_optical_frame"/>
  <joint name="center_top_led_frame_joint" type="fixed">
    <origin xyz="0.01125 0.0 0.0105"/>
    <parent link="multisense/head"/>
    <child link="multisense/center_top_led_frame"/>
  </joint>
  <link name="multisense/center_top_led_frame"/>
  <joint name="center_bottom_led_frame_joint" type="fixed">
    <origin xyz="0.01125 0.0 -0.0155"/>
    <parent link="multisense/head"/>
    <child link="multisense/center_bottom_led_frame"/>
  </joint>
  <link name="multisense/center_bottom_led_frame"/>
  <joint name="left_led_frame_joint" type="fixed">
    <origin rpy="0 0 0.6" xyz="-0.01443 0.07452 0.050346"/>
    <parent link="multisense/head"/>
    <child link="multisense/left_led_frame"/>
  </joint>
  <link name="multisense/left_led_frame"/>
  <joint name="right_led_frame_joint" type="fixed">
    <origin rpy="0 0 -0.6" xyz="-0.01443 -0.07452 0.050346"/>
    <parent link="multisense/head"/>
    <child link="multisense/right_led_frame"/>
  </joint>
  <link name="multisense/right_led_frame"/>
  <gazebo>
    <plugin filename="libMultiSenseSLPlugin2.so" name="multisense_plugin"/>
  </gazebo>
  <!-- imu link -->
  <link name="multisense/head_imu_link">
    <inertial>
      <mass value="1e-5"/>
      <!-- collocate with parent link and remove mass from it -->
      <origin rpy="0 0 0" xyz="-0.122993 0.035033383 0.02774"/>
      <inertia ixx="1e-6" ixy="0" ixz="0" iyy="1e-6" iyz="0" izz="1e-6"/>
    </inertial>
    <visual>
      <origin rpy="0 0 0" xyz="0 0 0"/>
      <geometry>
        <box size="0.01 0.01 0.01"/>
      </geometry>
    </visual>
  </link>
  <joint name="head_imu_joint" type="fixed">
    <parent link="multisense/head"/>
    <child link="multisense/head_imu_link"/>
    <!-- putting it at the same z-level as the stereo -->
    <origin rpy="0 0 0" xyz="-0.0475 0.035 0.0"/>
  </joint>
  <gazebo reference="multisense/head_imu_link">
    <!-- this is expected to be reparented to head with appropriate offset
         when head_imu_link is reduced by fixed joint reduction -->
    <!-- todo: this is working with gazebo 1.4, need to write a unit test -->
    <sensor name="head_imu_sensor" type="imu">
      <always_on>1</always_on>
      <update_rate>1000.0</update_rate>
      <imu>
        <noise>
          <type>gaussian</type>
          <!-- Noise parameters from Boston Dynamics
               (http://gazebosim.org/wiki/Sensor_noise):
                 rates (rad/s): mean=0, stddev=2e-4
                 accels (m/s/s): mean=0, stddev=1.7e-2
                 rate bias (rad/s): 5e-6 - 1e-5
                 accel bias (m/s/s): 1e-1
               Experimentally, simulation provide rates with noise of
               about 1e-3 rad/s and accels with noise of about 1e-1 m/s/s.
               So we don't expect to see the noise unless number of inner iterations
               are increased.

               We will add bias.  In this model, bias is sampled once for rates
               and once for accels at startup; the sign (negative or positive)
               of each bias is then switched with equal probability.  Thereafter,
               the biases are fixed additive offsets.  We choose
               bias means and stddevs to produce biases close to the provided
               data. -->
          <rate>
            <mean>0.0</mean>
            <stddev>2e-4</stddev>
            <bias_mean>0.0000075</bias_mean>
            <bias_stddev>0.0000008</bias_stddev>
          </rate>
          <accel>
            <mean>0.0</mean>
            <stddev>1.7e-2</stddev>
            <bias_mean>0.1</bias_mean>
            <bias_stddev>0.001</bias_stddev>
          </accel>
        </noise>
      </imu>
    </sensor>
  </gazebo>
  <link name="gaze"/>
  <joint name="gaze_joint" type="fixed">
    <parent link="multisense/head"/>
    <child link="gaze"/>
    <origin rpy="0 0 0" xyz="0 0 0"/>
  </joint>
  <link name="imu_link">
    <inertial>
      <mass value="0.01"/>
      <origin xyz="0 0 0"/>
      <inertia ixx="1.0E-6" ixy="0" ixz="0" iyy="1.0E-6" iyz="0" izz="1.0E-6"/>
    </inertial>
    <visual>
      <origin rpy="0 0 0" xyz="0 0 0"/>
      <geometry>
        <box size="0.01 0.01 0.01"/>
      </geometry>
    </visual>
  </link>
  <link name="imu_link2">
    <inertial>
      <mass value="0.01"/>
      <origin xyz="0 0 0"/>
      <inertia ixx="1.0E-6" ixy="0" ixz="0" iyy="1.0E-6" iyz="0" izz="1.0E-6"/>
    </inertial>
    <visual>
      <origin rpy="0 0 0" xyz="0 0 0"/>
      <geometry>
        <box size="0.01 0.01 0.01"/>
      </geometry>
    </visual>
  </link>
  <joint name="imu_joint" type="fixed">
    <parent link="Waist"/>
    <child link="imu_link"/>
    <origin rpy="0 0 0" xyz="0.0535 0.0 0.0601"/>
  </joint>
  <joint name="imu_joint2" type="fixed">
    <parent link="Waist"/>
    <child link="imu_link2"/>
    <origin rpy="0 0 0" xyz="0.0135 0.0 0.0601"/>
  </joint>
  <origin rpy="0 0 0" xyz="0.0 0.0 1.12"/>
  <!--
  ROS urdf definition of the BIGMAN humanoid robot by Istituto Italiano di Tecnologia
  
  Author: Alessio Rocchi
  
  This file groups files to use BIGMAN in GAZEBO
  
  -->
  <gazebo reference="imu_link">
    <sensor name="imu_link" type="imu">
      <always_on>1</always_on>
      <update_rate>1000</update_rate>
      <visualize>true</visualize>
      <topic>__default_topic__</topic>
      <imu>
        <!--
          <noise>
           <type>gaussian</type>
            <rate>
             <mean>0.0</mean>
             <stddev>2e-4</stddev>
             <bias_mean>0.0000075</bias_mean>
             <bias_stddev>0.0000008</bias_stddev>
            </rate>
            <accel>
             <mean>0.0</mean>
             <stddev>1.7e-2</stddev>
             <bias_mean>0.1</bias_mean>
             <bias_stddev>0.001</bias_stddev>
            </accel>
          </noise>
          -->
      </imu>
    </sensor>
  </gazebo>
  <gazebo reference="imu_link2">
    <sensor name="imu_link2" type="imu">
      <always_on>1</always_on>
      <update_rate>1000</update_rate>
      <visualize>true</visualize>
      <topic>__default_topic__</topic>
      <imu>
        <!--
          <noise>
           <type>gaussian</type>
            <rate>
             <mean>0.0</mean>
             <stddev>2e-4</stddev>
             <bias_mean>0.0000075</bias_mean>
             <bias_stddev>0.0000008</bias_stddev>
            </rate>
            <accel>
             <mean>0.0</mean>
             <stddev>1.7e-2</stddev>
             <bias_mean>0.1</bias_mean>
             <bias_stddev>0.001</bias_stddev>
            </accel>
          </noise>
          -->
      </imu>
    </sensor>
  </gazebo>
  <gazebo reference="RWrj2">
    <sensor name="r_arm_ft" type="force_torque">
      <force_torque>
        <frame>sensor</frame>
        <measure_direction>child_to_parent</measure_direction>
      </force_torque>
      <always_on>true</always_on>
      <visualize>true</visualize>
      <update_rate>1000</update_rate>
      <pose>0 0 -0.0565 0 0 0</pose>
    </sensor>
  </gazebo>
  <gazebo reference="LWrj2">
    <sensor name="l_arm_ft" type="force_torque">
      <force_torque>
        <frame>sensor</frame>
        <measure_direction>child_to_parent</measure_direction>
      </force_torque>
      <always_on>true</always_on>
      <visualize>true</visualize>
      <update_rate>1000</update_rate>
      <pose>0 0 -0.0565 0 0 0</pose>
    </sensor>
  </gazebo>
  <gazebo reference="LAnkLat">
    <sensor name="l_leg_ft" type="force_torque">
      <force_torque>
        <frame>sensor</frame>
        <measure_direction>child_to_parent</measure_direction>
      </force_torque>
      <always_on>true</always_on>
      <visualize>true</visualize>
      <update_rate>1000</update_rate>
      <pose>0.005 0 -0.107 0 0 0</pose>
    </sensor>
  </gazebo>
  <gazebo reference="RAnkLat">
    <sensor name="r_leg_ft" type="force_torque">
      <force_torque>
        <frame>sensor</frame>
        <measure_direction>child_to_parent</measure_direction>
      </force_torque>
      <always_on>true</always_on>
      <visualize>true</visualize>
      <update_rate>1000</update_rate>
      <pose>0.005 0 -0.107 0 0 0</pose>
    </sensor>
  </gazebo>
  <!-- contact model for foot surface -->
  <gazebo reference="LFoot">
    <kp>1000000.0</kp>
    <kd>100.0</kd>
    <mu1>1.0</mu1>
    <mu2>1.0</mu2>
    <fdir1>1 0 0</fdir1>
    <maxVel>1.0</maxVel>
    <minDepth>0.0</minDepth>
  </gazebo>
  <gazebo reference="RFoot">
    <kp>1000000.0</kp>
    <kd>100.0</kd>
    <mu1>1.0</mu1>
    <mu2>1.0</mu2>
    <fdir1>1 0 0</fdir1>
    <maxVel>1.0</maxVel>
    <minDepth>0.0</minDepth>
  </gazebo>
  <gazebo reference="LLowLeg">
    <kp>1000000.0</kp>
    <kd>100.0</kd>
    <mu1>0.3</mu1>
    <mu2>0.3</mu2>
    <fdir1>1 0 0</fdir1>
    <maxVel>1.0</maxVel>
    <minDepth>0.0</minDepth>
  </gazebo>
  <gazebo reference="RLowLeg">
    <kp>1000000.0</kp>
    <kd>100.0</kd>
    <mu1>0.3</mu1>
    <mu2>0.3</mu2>
    <fdir1>1 0 0</fdir1>
    <maxVel>1.0</maxVel>
    <minDepth>0.0</minDepth>
  </gazebo>
  <!-- contact model for hand surface -->
  <gazebo reference="LSoftHand">
    <kp>1000000.0</kp>
    <kd>100.0</kd>
    <mu1>1.0</mu1>
    <mu2>1.0</mu2>
    <fdir1>1 0 0</fdir1>
    <maxVel>1.0</maxVel>
    <minDepth>0.0</minDepth>
  </gazebo>
  <gazebo reference="RSoftHand">
    <kp>1000000.0</kp>
    <kd>100.0</kd>
    <mu1>1.0</mu1>
    <mu2>1.0</mu2>
    <fdir1>1 0 0</fdir1>
    <maxVel>1.0</maxVel>
    <minDepth>0.0</minDepth>
  </gazebo>
  <gazebo reference="LRaisingSupport">
    <kp>1000000.0</kp>
    <kd>100.0</kd>
    <mu1>0.5</mu1>
    <mu2>0.5</mu2>
    <fdir1>1 0 0</fdir1>
    <maxVel>1.0</maxVel>
    <minDepth>0.0</minDepth>
  </gazebo>
  <gazebo reference="RRaisingSupport">
    <kp>1000000.0</kp>
    <kd>100.0</kd>
    <mu1>0.5</mu1>
    <mu2>0.5</mu2>
    <fdir1>1 0 0</fdir1>
    <maxVel>1.0</maxVel>
    <minDepth>0.0</minDepth>
  </gazebo>
  <!-- Other parameters... -->
  <gazebo reference="RHipSag">
    <implicitSpringDamper>1</implicitSpringDamper>
    <provideFeedback>true</provideFeedback>
  </gazebo>
  <gazebo reference="RHipLat">
    <implicitSpringDamper>1</implicitSpringDamper>
    <provideFeedback>true</provideFeedback>
  </gazebo>
  <gazebo reference="RHipYaw">
    <implicitSpringDamper>1</implicitSpringDamper>
    <provideFeedback>true</provideFeedback>
  </gazebo>
  <gazebo reference="RKneeSag">
    <implicitSpringDamper>1</implicitSpringDamper>
    <provideFeedback>true</provideFeedback>
  </gazebo>
  <gazebo reference="RAnkLat">
    <implicitSpringDamper>1</implicitSpringDamper>
    <provideFeedback>true</provideFeedback>
  </gazebo>
  <gazebo reference="RAnkSag">
    <implicitSpringDamper>1</implicitSpringDamper>
    <provideFeedback>true</provideFeedback>
  </gazebo>
  <gazebo reference="LHipSag">
    <implicitSpringDamper>1</implicitSpringDamper>
    <provideFeedback>true</provideFeedback>
  </gazebo>
  <gazebo reference="LHipLat">
    <implicitSpringDamper>1</implicitSpringDamper>
    <provideFeedback>true</provideFeedback>
  </gazebo>
  <gazebo reference="LHipYaw">
    <implicitSpringDamper>1</implicitSpringDamper>
    <provideFeedback>true</provideFeedback>
  </gazebo>
  <gazebo reference="LKneeSag">
    <implicitSpringDamper>1</implicitSpringDamper>
    <provideFeedback>true</provideFeedback>
  </gazebo>
  <gazebo reference="LAnkLat">
    <implicitSpringDamper>1</implicitSpringDamper>
    <provideFeedback>true</provideFeedback>
  </gazebo>
  <gazebo reference="LAnkSag">
    <implicitSpringDamper>1</implicitSpringDamper>
    <provideFeedback>true</provideFeedback>
  </gazebo>
  <gazebo reference="WaistSag">
    <implicitSpringDamper>1</implicitSpringDamper>
    <provideFeedback>true</provideFeedback>
  </gazebo>
  <gazebo reference="WaistLat">
    <implicitSpringDamper>1</implicitSpringDamper>
    <provideFeedback>true</provideFeedback>
  </gazebo>
  <gazebo reference="WaistYaw">
    <implicitSpringDamper>1</implicitSpringDamper>
    <provideFeedback>true</provideFeedback>
  </gazebo>
  <gazebo reference="RShSag">
    <implicitSpringDamper>1</implicitSpringDamper>
    <provideFeedback>true</provideFeedback>
  </gazebo>
  <gazebo reference="RShLat">
    <implicitSpringDamper>1</implicitSpringDamper>
    <provideFeedback>true</provideFeedback>
  </gazebo>
  <gazebo reference="RShYaw">
    <implicitSpringDamper>1</implicitSpringDamper>
    <provideFeedback>true</provideFeedback>
  </gazebo>
  <gazebo reference="RElbj">
    <implicitSpringDamper>1</implicitSpringDamper>
    <provideFeedback>true</provideFeedback>
  </gazebo>
  <gazebo reference="RForearmPlate">
    <implicitSpringDamper>1</implicitSpringDamper>
    <provideFeedback>true</provideFeedback>
  </gazebo>
  <gazebo reference="RWrj1">
    <implicitSpringDamper>1</implicitSpringDamper>
    <provideFeedback>true</provideFeedback>
  </gazebo>
  <gazebo reference="RWrj2">
    <implicitSpringDamper>1</implicitSpringDamper>
    <provideFeedback>true</provideFeedback>
  </gazebo>
  <gazebo reference="RWrMot3">
    <sensor name="RWrMot3_contact_sensor" type="contact">
      <contact>
        <collision>RWrMot3_fixed_joint_lump__RSoftHandLink_collision_1</collision>
      </contact>
    </sensor>
  </gazebo>
  <gazebo reference="LShSag">
    <implicitSpringDamper>1</implicitSpringDamper>
    <provideFeedback>true</provideFeedback>
  </gazebo>
  <gazebo reference="LShLat">
    <implicitSpringDamper>1</implicitSpringDamper>
    <provideFeedback>true</provideFeedback>
  </gazebo>
  <gazebo reference="LShYaw">
    <implicitSpringDamper>1</implicitSpringDamper>
    <provideFeedback>true</provideFeedback>
  </gazebo>
  <gazebo reference="LElbj">
    <implicitSpringDamper>1</implicitSpringDamper>
    <provideFeedback>true</provideFeedback>
  </gazebo>
  <gazebo reference="LForearmPlate">
    <implicitSpringDamper>1</implicitSpringDamper>
    <provideFeedback>true</provideFeedback>
  </gazebo>
  <gazebo reference="LWrj1">
    <implicitSpringDamper>1</implicitSpringDamper>
    <provideFeedback>true</provideFeedback>
  </gazebo>
  <gazebo reference="LWrj2">
    <implicitSpringDamper>1</implicitSpringDamper>
    <provideFeedback>true</provideFeedback>
  </gazebo>
  <gazebo reference="LWrMot3">
    <sensor name="LWrMot3_contact_sensor" type="contact">
      <contact>
        <collision>LWrMot3_fixed_joint_lump__LSoftHandLink_collision_1</collision>
      </contact>
    </sensor>
  </gazebo>
  <gazebo>
    <plugin filename="libGazeboXBotPlugin.so" name="xbot_plugin_handler">
      <path_to_config_file>configs/ADVR_shared/bigman/configs/config_walkman.yaml</path_to_config_file>
    </plugin>
  </gazebo>
  <gazebo>
    <plugin filename="libmagnetic.so" name="magnetic_LSoftHand">
      <link_name>LWrMot3</link_name>
    </plugin>
    <plugin filename="libmagnetic.so" name="magnetic_RSoftHand">
      <link_name>RWrMot3</link_name>
    </plugin>
  </gazebo>
  <gazebo reference="base_link">
    <material>Gazebo/Grey</material>
  </gazebo>
  <gazebo reference="DWL">
    <material>Gazebo/DarkGrey</material>
  </gazebo>
  <gazebo reference="DWS">
    <material>Gazebo/DarkGrey</material>
  </gazebo>
  <gazebo reference="DWYTorso">
    <material>Gazebo/Blue</material>
  </gazebo>
  <gazebo reference="RShp">
    <material>Gazebo/DarkGrey</material>
  </gazebo>
  <gazebo reference="RShr">
    <material>Gazebo/DarkGrey</material>
  </gazebo>
  <gazebo reference="RShy">
    <material>Gazebo/DarkGrey</material>
  </gazebo>
  <gazebo reference="RElb">
    <material>Gazebo/DarkGrey</material>
  </gazebo>
  <gazebo reference="RForearm">
    <material>Gazebo/DarkGrey</material>
  </gazebo>
  <gazebo reference="RWrMot2">
    <material>Gazebo/DarkGrey</material>
  </gazebo>
  <gazebo reference="RWrMot3">
    <material>Gazebo/Blue</material>
  </gazebo>
  <gazebo reference="RRaisingSupport">
    <material>Gazebo/DarkGrey</material>
  </gazebo>
  <gazebo reference="RSoftHand">
    <material>Gazebo/Black</material>
  </gazebo>
  <gazebo reference="LShp">
    <material>Gazebo/DarkGrey</material>
  </gazebo>
  <gazebo reference="LShr">
    <material>Gazebo/DarkGrey</material>
  </gazebo>
  <gazebo reference="LShy">
    <material>Gazebo/DarkGrey</material>
  </gazebo>
  <gazebo reference="LElb">
    <material>Gazebo/DarkGrey</material>
  </gazebo>
  <gazebo reference="LForearm">
    <material>Gazebo/DarkGrey</material>
  </gazebo>
  <gazebo reference="LWrMot2">
    <material>Gazebo/DarkGrey</material>
  </gazebo>
  <gazebo reference="LWrMot3">
    <material>Gazebo/Blue</material>
  </gazebo>
  <gazebo reference="LRaisingSupport">
    <material>Gazebo/DarkGrey</material>
  </gazebo>
  <gazebo reference="LSoftHand">
    <material>Gazebo/Black</material>
  </gazebo>
  <gazebo reference="RHipMot">
    <material>Gazebo/DarkGrey</material>
  </gazebo>
  <gazebo reference="RThighUpLeg">
    <material>Gazebo/DarkGrey</material>
  </gazebo>
  <gazebo reference="RThighLowLeg">
    <material>Gazebo/Grey</material>
  </gazebo>
  <gazebo reference="RLowLeg">
    <material>Gazebo/DarkGrey</material>
  </gazebo>
  <gazebo reference="RFootmot">
    <material>Gazebo/DarkGrey</material>
  </gazebo>
  <gazebo reference="RFoot">
    <material>Gazebo/DarkGrey</material>
  </gazebo>
  <gazebo reference="LHipMot">
    <material>Gazebo/DarkGrey</material>
  </gazebo>
  <gazebo reference="LThighUpLeg">
    <material>Gazebo/DarkGrey</material>
  </gazebo>
  <gazebo reference="LThighLowLeg">
    <material>Gazebo/Grey</material>
  </gazebo>
  <gazebo reference="LLowLeg">
    <material>Gazebo/DarkGrey</material>
  </gazebo>
  <gazebo reference="LFootmot">
    <material>Gazebo/DarkGrey</material>
  </gazebo>
  <gazebo reference="LFoot">
    <material>Gazebo/DarkGrey</material>
  </gazebo>
  <gazebo reference="head">
    <material>Gazebo/DarkGrey</material>
  </gazebo>
  <gazebo reference="hokuyo_link">
    <material>Gazebo/Black</material>
  </gazebo>
  <gazebo reference="NeckYaw">
    <material>Gazebo/Grey</material>
  </gazebo>
  <gazebo reference="NeckPitch">
    <material>Gazebo/Grey</material>
  </gazebo>
</robot>
